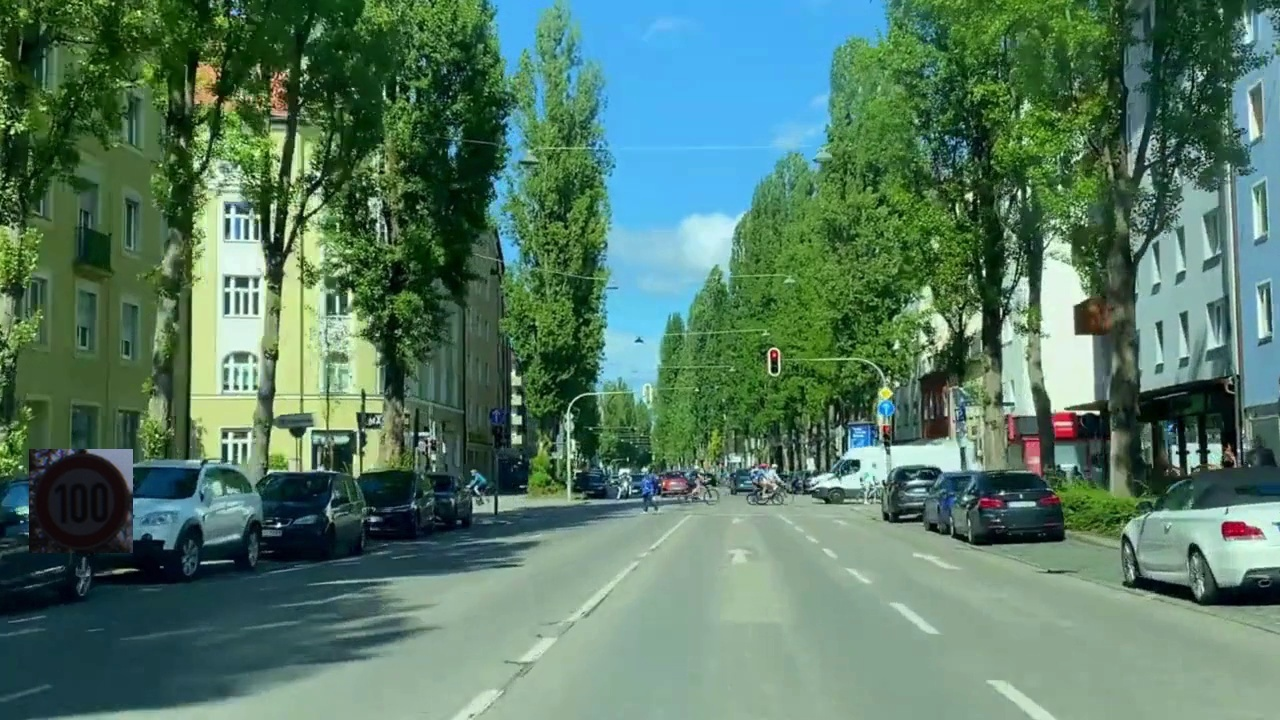Speed 100: (29, 449, 133, 553)
